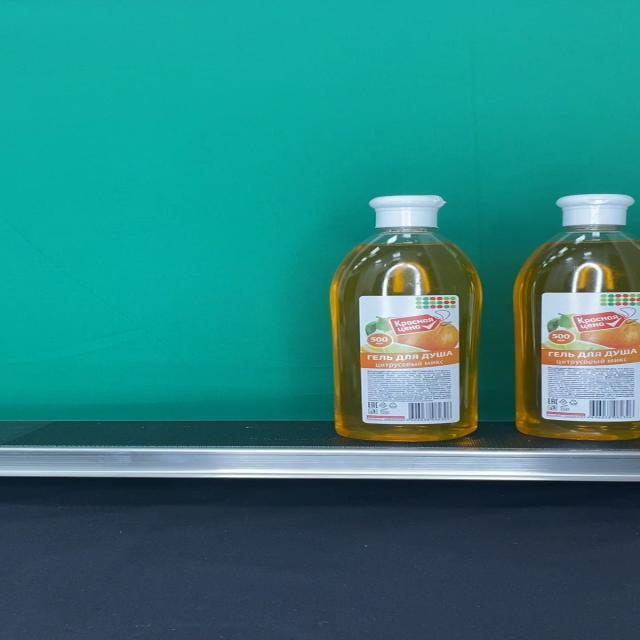Bottle: (330, 194, 482, 442), (514, 194, 640, 440)
Cap: (369, 195, 447, 229), (554, 194, 636, 226)
